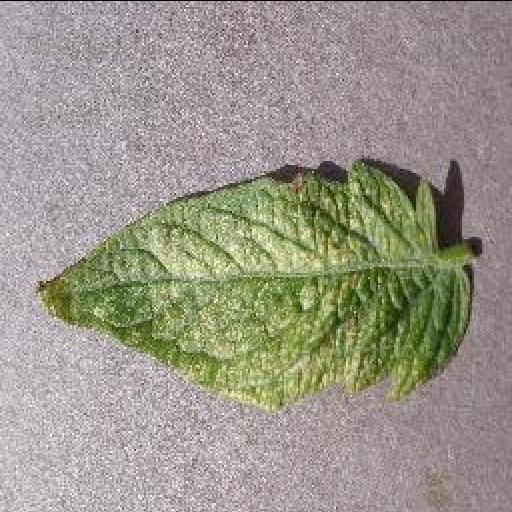disease_tomato: (35, 160, 469, 412)
